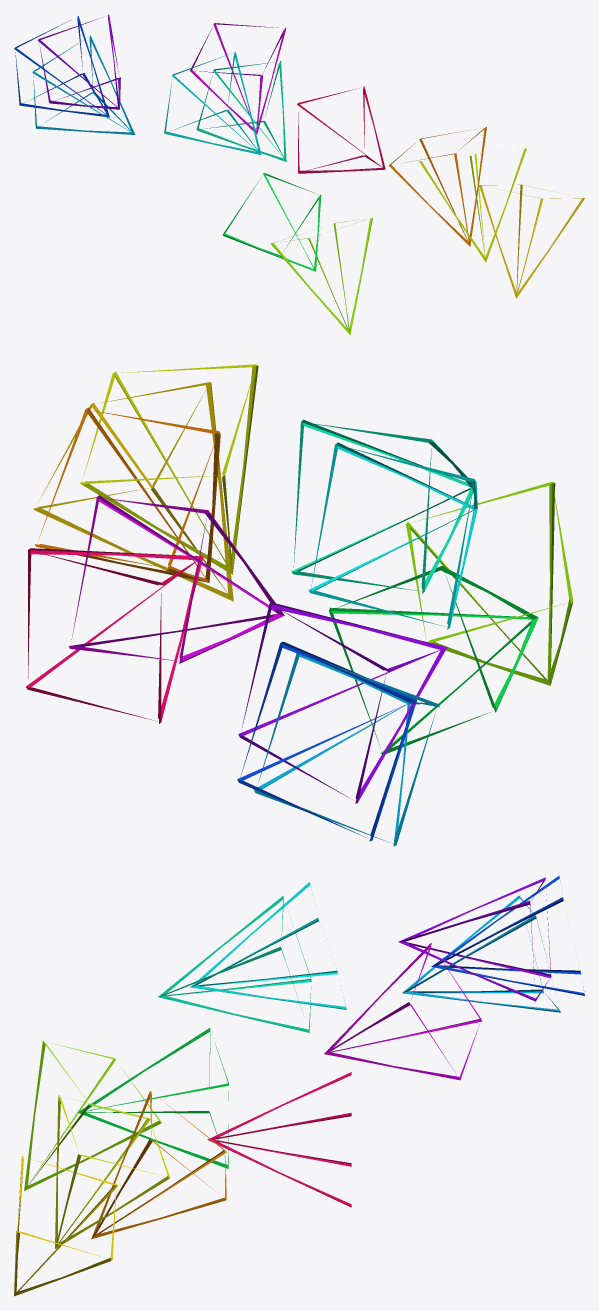
File: pitch_180_wrist_video_110.glb
The picture shows the model from 3 angles, top to bottom: view 1: azimuth 30°, elevation 25°; view 2: azimuth 150°, elevation 25°; view 3: azimuth 270°, elevation 25°; orthographic projection. The views are drawn at different scales.
Visible parts, largest first — view 1: world; view 2: world; view 3: world.
Part boxes in pixels (left/top/right/bottom): world: left=14, top=14, right=584, bottom=334; world: left=26, top=364, right=573, bottom=846; world: left=14, top=876, right=584, bottom=1296.
Size of the model in its own units: 0.9191 by 0.4895 by 0.9346.
